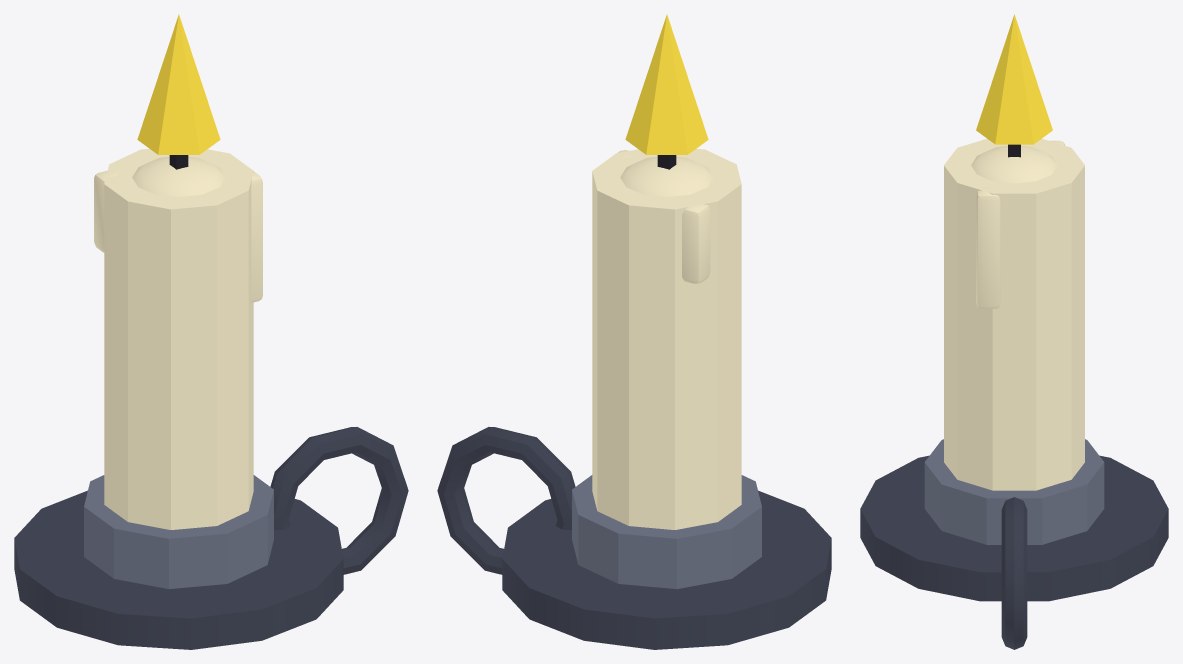
The model's file is vuena-prop-08-candle.glb.
The picture shows the model from 3 angles, left to right: view 1: azimuth 30°, elevation 25°; view 2: azimuth 150°, elevation 25°; view 3: azimuth 270°, elevation 25°; orthographic projection. The views are drawn at different scales.
Visible parts, largest first — view 1: Prop; view 2: Prop; view 3: Prop.
Part boxes in pixels (left/top/right/bottom): Prop: left=14, top=14, right=408, bottom=649; Prop: left=437, top=14, right=831, bottom=649; Prop: left=860, top=14, right=1168, bottom=649.
Size of the model in its own units: 0.307 by 0.4771 by 0.24.
Materials: 1 (1 with a texture image).
